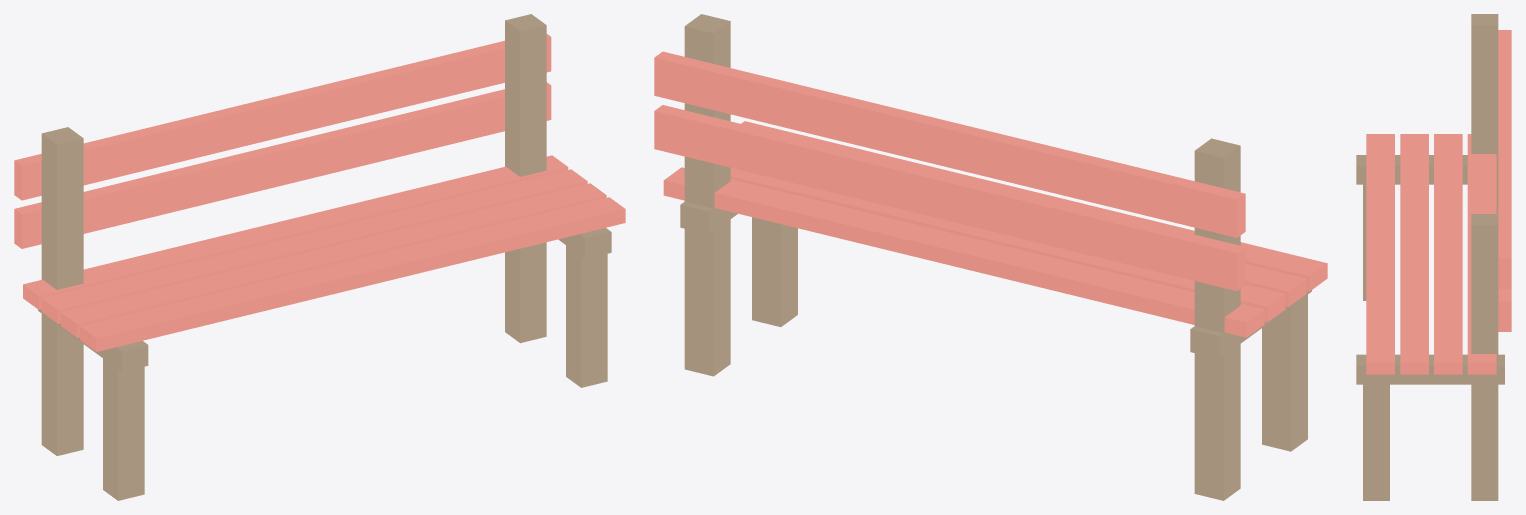
Rendered from Blender_Bench_1.glb.
3 views of the same model, side by side, from view 1: azimuth 30°, elevation 25°; view 2: azimuth 150°, elevation 25°; view 3: azimuth 270°, elevation 25° (orthographic). The views are drawn at different scales.
Parts seen in each view (by area): view 1: Blender_Bench_1; view 2: Blender_Bench_1; view 3: Blender_Bench_1.
Boxes of the visible parts, x1,y1,x2,y2 form: Blender_Bench_1: (14,14,625,500); Blender_Bench_1: (654,14,1327,500); Blender_Bench_1: (1356,14,1511,500).
Bounding box in the file's own units: 1.6 × 0.9 × 0.46.
